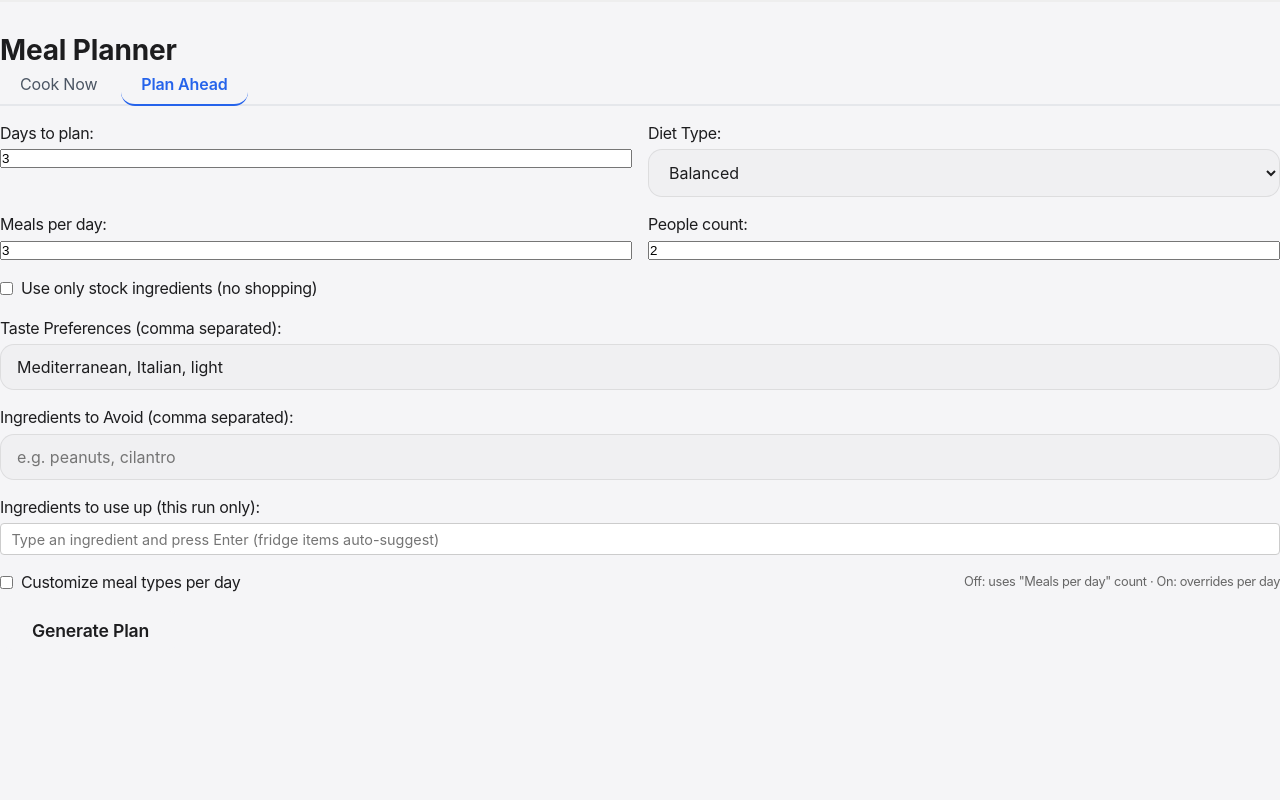
Test case: MealPlanner › renders plan and freeze/unfreeze toggles meal
What coordinates should you click on to do the following:
click the button "Generate Plan"
I would click on:
 (91, 630)
Its box is [0, 611, 181, 650].
(page scrolled)
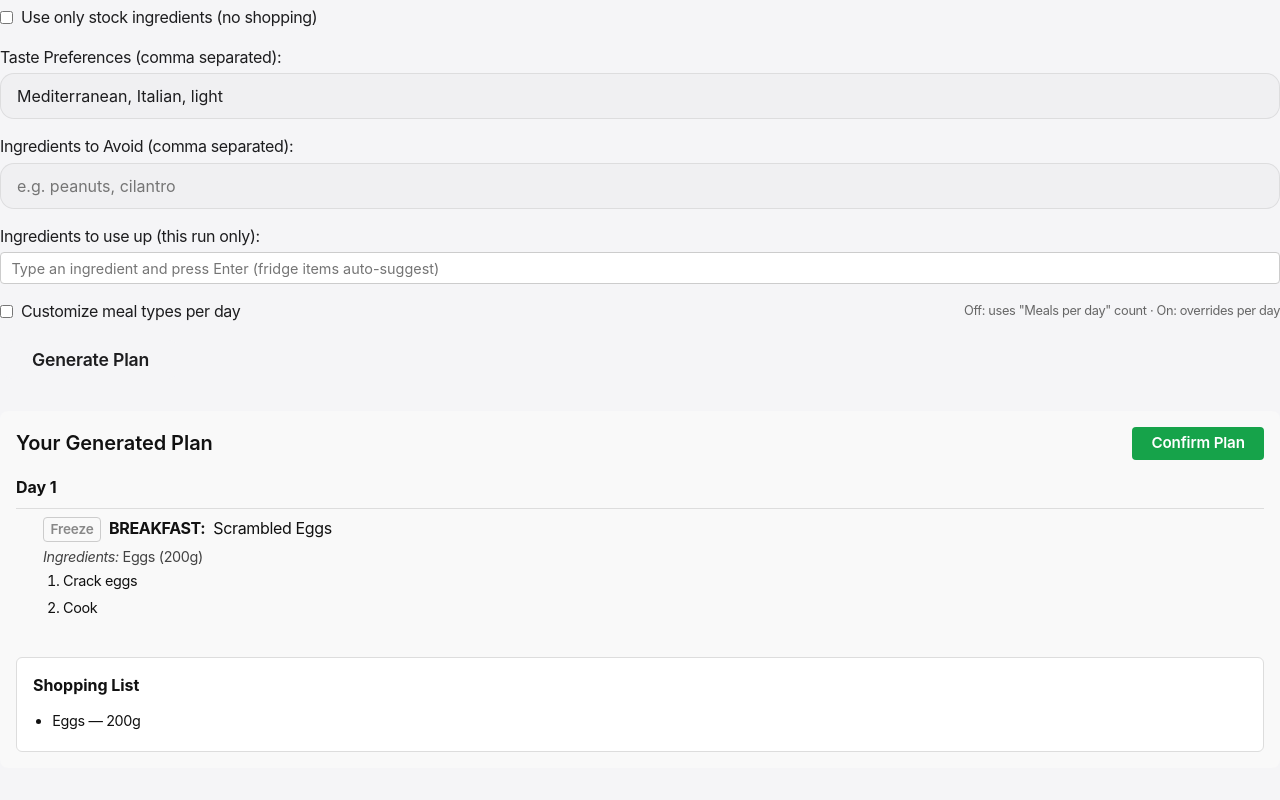
expect the text "Scrambled Eggs" is shown: met, box [213, 518, 332, 538]
Note: Click freeze button (accessible name is text content "Freeze")
What coordinates should you click on to do the following:
click the button "Freeze"
I would click on:
 (72, 529)
Its box is [43, 517, 101, 542].
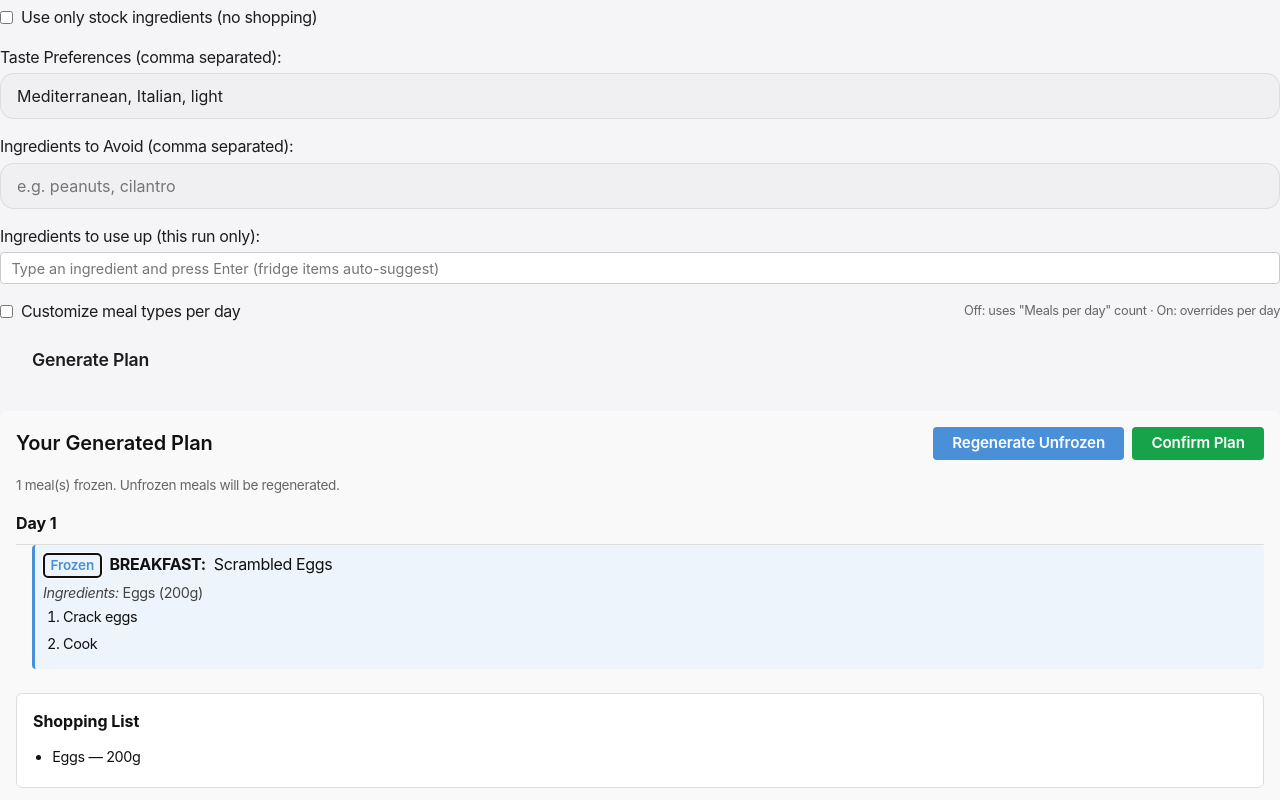
expect the button "Frozen" is shown: met
expect the text "1 meal(s) frozen. Unfrozen meals will be regenerated." is shown: met, box [16, 477, 340, 493]
Note: Click again to unfreeze (now text content is "Frozen")
What coordinates should you click on to do the following:
click the button "Frozen"
I would click on:
 (72, 565)
Its box is [43, 553, 102, 578].
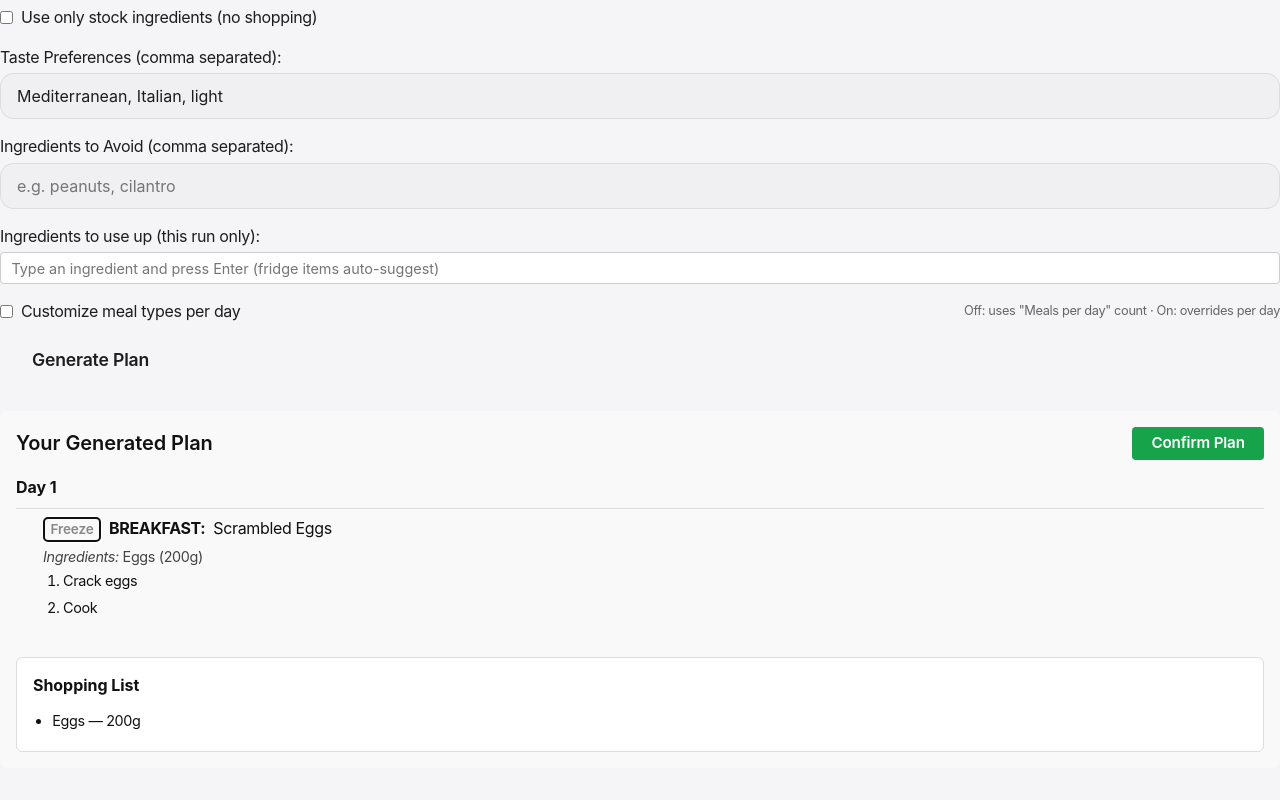
expect the text "meal(s) frozen" is gone: met
